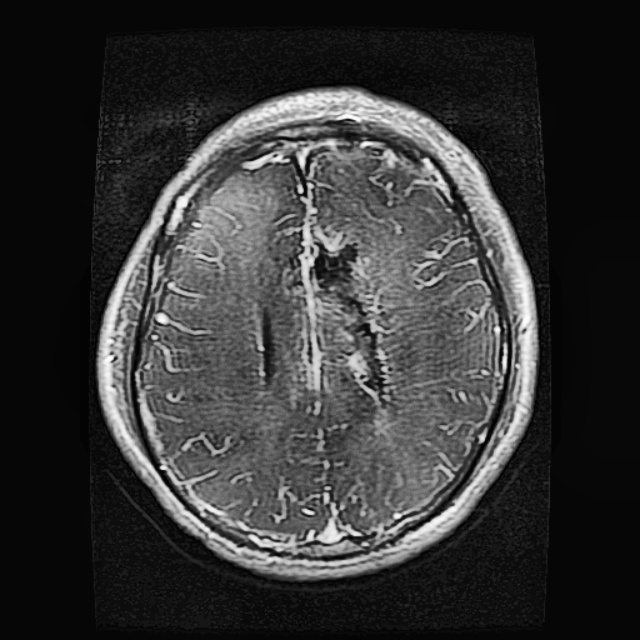Glioma: (255, 213, 392, 417)
